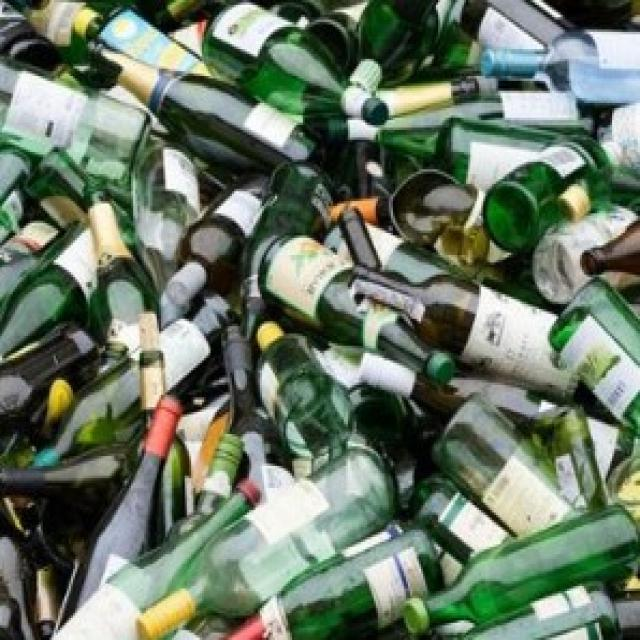electronic: (132, 439, 401, 640), (257, 229, 456, 392), (404, 507, 640, 640), (213, 522, 453, 640), (426, 390, 611, 540), (483, 128, 629, 266), (163, 168, 296, 310), (250, 321, 360, 469), (77, 183, 162, 348)
